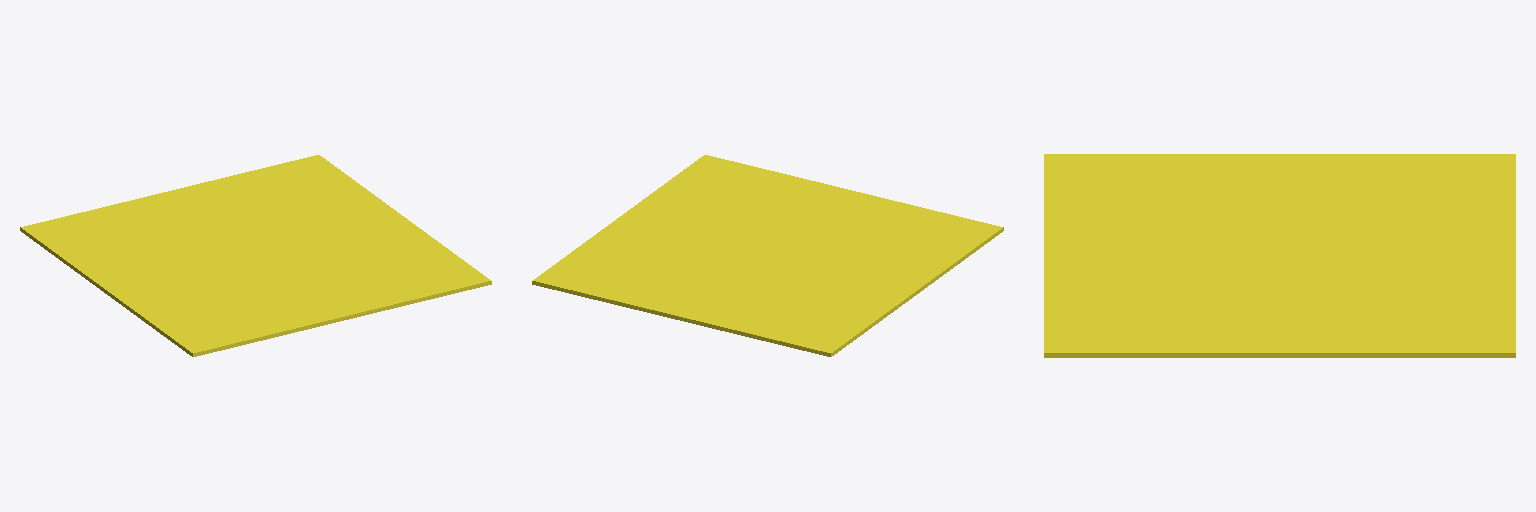
robot.urdf — plane:
<?xml version="1.0"?>
<robot name="plane">
  <link name="world"/>

  <!-- for plane z -->
  <joint name="plane_z_joint" type="continuous">
    <parent link="world"/>
    <child link="plane_z_link"/>
    <axis xyz="0 0 1"/>
    <origin xyz="0.5 0 0.1" rpy="0 0 0"/>
  </joint>
  <transmission name="plane_z_trans">
    <type>transmission_interface/SimpleTransmission</type>
    <joint name="plane_z_joint">
      <hardwareInterface>hardware_interface/PositionJointInterface</hardwareInterface>
    </joint>
    <actuator name="plane_z_motor">
      <hardwareInterface>hardware_interface/PositionJointInterface</hardwareInterface>
      <mechanismReduction>1</mechanismReduction>
    </actuator>
  </transmission>
  <link name="plane_z_link">
    <inertial>
      <mass value="1.0"/>
      <origin xyz="0 0 0" rpy="0 0 0"/>
      <inertia ixx="1.0" ixy="0.0" ixz="0.0" iyy="1.0" iyz="0.0" izz="1.0"/>
    </inertial>
    <visual>
    </visual>
    <collision>
    </collision>
  </link>

  <!-- for plane x -->
  <joint name="plane_x_joint" type="continuous">
    <parent link="plane_z_link"/>
    <child link="plane_x_link"/>
    <axis xyz="1 0 0"/>
    <origin xyz="0 0 0" rpy="0 0 0"/>
  </joint>
  <transmission name="plane_x_trans">
    <type>transmission_interface/SimpleTransmission</type>
    <joint name="plane_x_joint">
      <hardwareInterface>hardware_interface/PositionJointInterface</hardwareInterface>
    </joint>
    <actuator name="plane_x_motor">
      <hardwareInterface>hardware_interface/PositionJointInterface</hardwareInterface>
      <mechanismReduction>1</mechanismReduction>
    </actuator>
  </transmission>
  <link name="plane_x_link">
    <inertial>
      <mass value="1.0"/>
      <origin xyz="0 0 0" rpy="0 0 0"/>
      <inertia ixx="1.0" ixy="0.0" ixz="0.0" iyy="1.0" iyz="0.0" izz="1.0"/>
    </inertial>
    <visual>
    </visual>
    <collision>
    </collision>
  </link>

  <!-- for plane board -->
  <joint name="plane_board_joint" type="continuous">
    <parent link="plane_x_link"/>
    <child link="plane_board_link"/>
    <axis xyz="0 0 1"/>
    <origin xyz="0 0 0" rpy="0 0 0"/>
  </joint>
  <transmission name="plane_board_trans">
    <type>transmission_interface/SimpleTransmission</type>
    <joint name="plane_board_joint">
      <hardwareInterface>hardware_interface/PositionJointInterface</hardwareInterface>
    </joint>
    <actuator name="plane_board_motor">
      <hardwareInterface>hardware_interface/PositionJointInterface</hardwareInterface>
      <mechanismReduction>1</mechanismReduction>
    </actuator>
  </transmission>
  <link name="plane_board_link">
    <inertial>
      <mass value="1.0"/>
      <origin xyz="0 0 0" rpy="0 0 0"/>
      <inertia ixx="1.0" ixy="0.0" ixz="0.0" iyy="1.0" iyz="0.0" izz="1.0"/>
    </inertial>
    <visual>
      <origin xyz="0 0 0" rpy="0 0 0"/>
      <geometry>
        <box size="0.8 0.8 0.01"/>
      </geometry>
      <!-- <material> -->
      <!--   <ambient>0.5 0.5 0.5 1</ambient> -->
      <!--   <diffuse>0.5 0.5 0.5 1</diffuse> -->
      <!--   <specular>0.1 0.1 0.1 1</specular> -->
      <!--   <emissive>0 0 0 0</emissive> -->
      <!-- </material> -->
    </visual>
    <collision>
      <origin xyz="0 0 0" rpy="0 0 0"/>
      <geometry>
        <box size="0.8 0.8 0.01"/>
      </geometry>
    </collision>
  </link>

  <gazebo>
    <plugin name="gazebo_ros_control" filename="libgazebo_ros_control.so">
      <robotNamespace>/plane</robotNamespace>
      <robotSimType>gazebo_ros_control/DefaultRobotHWSim</robotSimType>
      <legacyModeNS>true</legacyModeNS>
    </plugin>
  </gazebo>
</robot>

--- Render facts (derived) ---
The picture shows the robot from 3 angles, left to right: view 1: azimuth 30°, elevation 25°; view 2: azimuth 150°, elevation 25°; view 3: azimuth 270°, elevation 25°; orthographic projection.
Model plane with 4 links and 3 joints (3 continuous), rooted at world, posed all joints at 0.
Visible links, largest first — view 1: plane_board_link; view 2: plane_board_link; view 3: plane_board_link.
Boxes of the visible links, x1,y1,x2,y2 form: plane_board_link: (20, 155, 491, 356); plane_board_link: (532, 155, 1003, 356); plane_board_link: (1044, 154, 1515, 357).
Bounding box of the posed robot: 0.8 × 0.8 × 0.01 m (x, y, z).
Geometry: primitives only (box / cylinder / sphere), no mesh files.